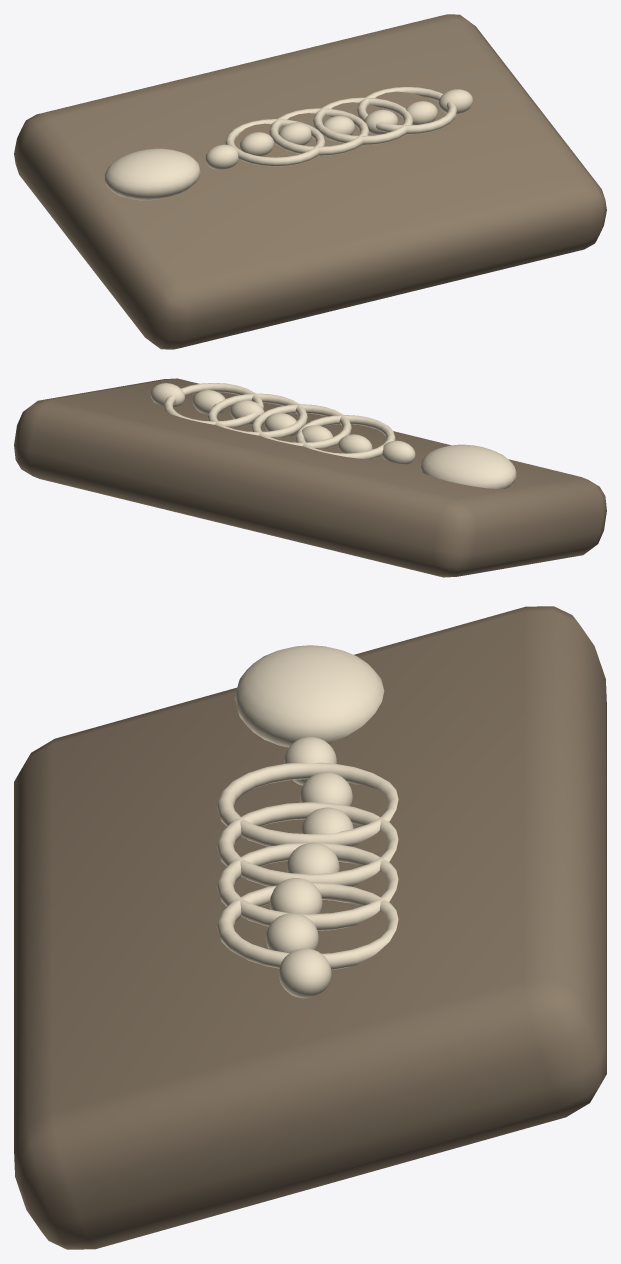
The model's file is cave_fossil.glb.
The picture shows the model from 3 angles, top to bottom: view 1: azimuth 30°, elevation 25°; view 2: azimuth 150°, elevation 25°; view 3: azimuth 270°, elevation 25°; orthographic projection. The views are drawn at different scales.
Parts seen in each view (by area): view 1: Slab, Skull, Rib2, Rib1, Rib0, Rib3, Vert0, Vert1, Vert6, Vert5, Vert2, Vert4 (+1 smaller); view 2: Slab, Skull, Rib2, Rib1, Rib0, Rib3, Vert0, Vert6, Vert5, Vert1, Vert4, Vert3 (+1 smaller); view 3: Slab, Skull, Rib0, Rib1, Rib2, Rib3, Vert6, Vert5, Vert4, Vert1, Vert3, Vert0 (+1 smaller).
Part boxes in pixels (left/top/right/bottom): Slab: left=14, top=14, right=606, bottom=349; Skull: left=104, top=148, right=200, bottom=200; Rib2: left=313, top=97, right=413, bottom=144; Rib1: left=269, top=108, right=369, bottom=155; Rib0: left=225, top=119, right=325, bottom=166; Rib3: left=357, top=87, right=457, bottom=134; Vert0: left=205, top=144, right=239, bottom=170; Vert1: left=240, top=132, right=274, bottom=156; Vert6: left=438, top=89, right=472, bottom=114; Vert5: left=406, top=101, right=437, bottom=124; Vert2: left=278, top=122, right=311, bottom=145; Vert4: left=364, top=109, right=398, bottom=134; Slab: left=14, top=378, right=606, bottom=577; Skull: left=420, top=444, right=516, bottom=488; Rib2: left=207, top=393, right=307, bottom=437; Rib1: left=251, top=404, right=351, bottom=448; Rib0: left=295, top=415, right=395, bottom=459; Rib3: left=163, top=383, right=263, bottom=426; Vert0: left=381, top=440, right=415, bottom=464; Vert6: left=150, top=383, right=184, bottom=407; Vert5: left=192, top=390, right=225, bottom=414; Vert1: left=338, top=434, right=372, bottom=453; Vert4: left=230, top=400, right=264, bottom=424; Vert3: left=264, top=413, right=296, bottom=436; Slab: left=14, top=606, right=606, bottom=1249; Skull: left=234, top=645, right=384, bottom=747; Rib0: left=216, top=762, right=398, bottom=846; Rib1: left=216, top=802, right=398, bottom=886; Rib2: left=216, top=842, right=398, bottom=930; Rib3: left=216, top=882, right=398, bottom=969; Vert6: left=278, top=948, right=331, bottom=998; Vert5: left=265, top=913, right=318, bottom=953; Vert4: left=269, top=878, right=322, bottom=914; Vert1: left=300, top=772, right=352, bottom=806; Vert3: left=286, top=842, right=339, bottom=874; Vert0: left=284, top=737, right=336, bottom=785.
Bounding box in the file's own units: 2.6 × 0.7723 × 1.56.
